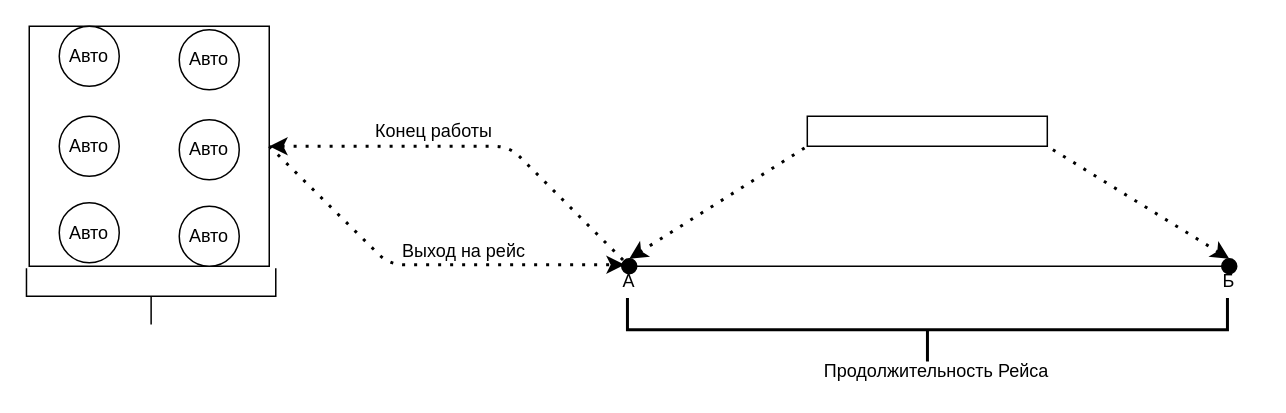
This 1286x413 diagram has some shape labels left out. The shapes that lost their labels are listed below. From the top down, each one's centre as x and y in pixels, then its label:
(926,130): Отдых после Рейса
(150,295): Автопарк
